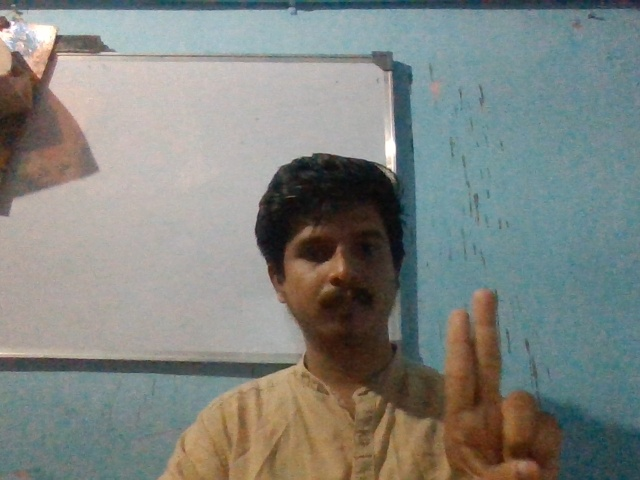Prana: (428, 274, 571, 480)
